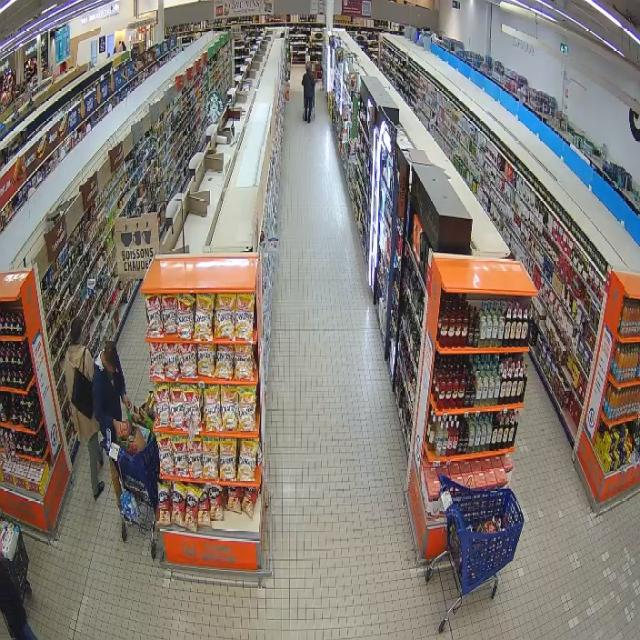article: (118, 419, 132, 436)
bags: (71, 368, 93, 418)
hands: (113, 419, 126, 432), (123, 395, 131, 408)
person: (93, 342, 129, 442), (71, 403, 104, 498), (302, 64, 315, 123)
